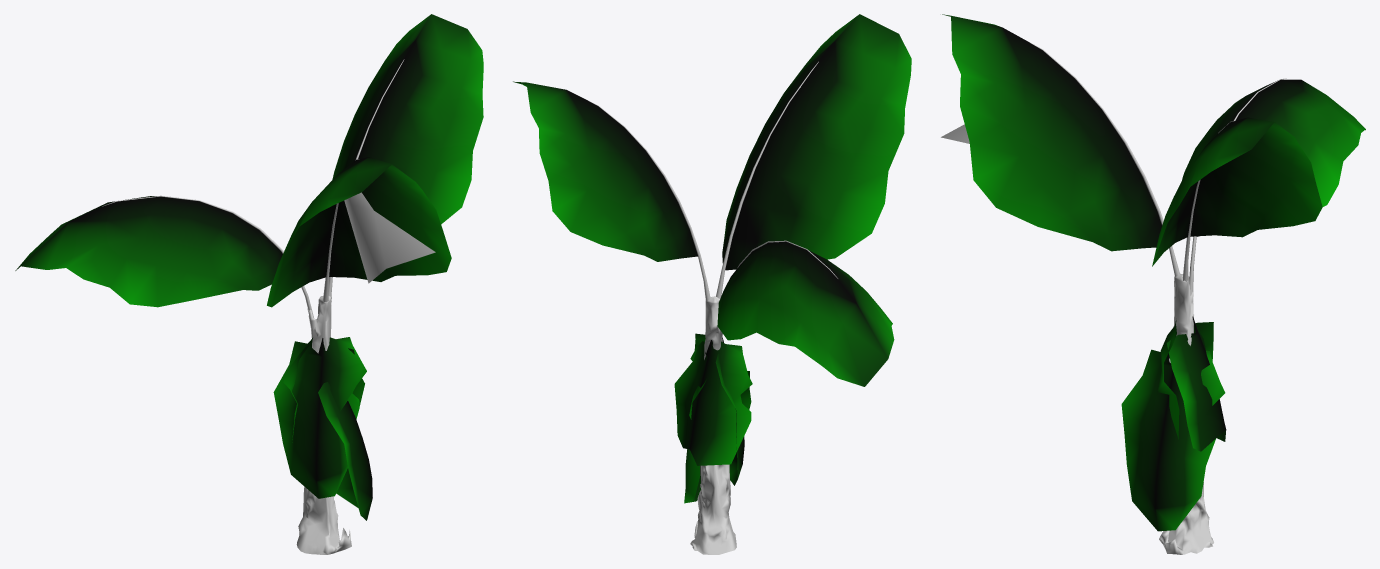
The model's file is CoconutPalmTree04_afsTREE_xlprl05_xlod00.fbx.
The picture shows the model from 3 angles, left to right: view 1: azimuth 30°, elevation 25°; view 2: azimuth 150°, elevation 25°; view 3: azimuth 270°, elevation 25°; orthographic projection. The views are drawn at different scales.
Parts seen in each view (by area): view 1: PalmBranch01_xw07_xt08_xlp00.004, PalmBranch01_xw10_xt08_xlp00.003, PalmBranch01_xw10_xt09_xlp00.004, DeadPalmBranch_xw01_xt02_xlp01_xp01, PalmBlade02_bent_right_xw03_xt05_xlp05.005, trunk_CoconutPalmTree04_xw03_xt03_xlp03, DeadPalmBranch_xw02_xt03_xlp02_xp03.006, DeadPalmBranch_xw01_xt02_xlp01; view 2: PalmBranch01_xw10_xt09_xlp00.004, PalmBranch01_xw10_xt08_xlp00.003, PalmBranch01_xw07_xt08_xlp00.004, DeadPalmBranch_xw01_xt02_xlp01, trunk_CoconutPalmTree04_xw03_xt03_xlp03, DeadPalmBranch_xw02_xt03_xlp02_xp03.006, DeadPalmBranch_xw01_xt02_xlp01_xp01, PalmBranch01_xw10_xt09_xlp08_xp08, PalmBranch01_xw10_xt08_xlp06_xp03; view 3: PalmBranch01_xw10_xt09_xlp00.004, PalmBranch01_xw10_xt08_xlp00.003, DeadPalmBranch_xw02_xt03_xlp02_xp03.006, PalmBranch01_xw07_xt08_xlp00.004, DeadPalmBranch_xw01_xt02_xlp01, trunk_CoconutPalmTree04_xw03_xt03_xlp03, DeadPalmBranch_xw01_xt02_xlp01_xp01, PalmBranch01_xw10_xt09_xlp08_xp08.
Boxes of the visible parts, x1,y1,x2,y2 form: PalmBranch01_xw07_xt08_xlp00.004: [15, 196, 282, 307]; PalmBranch01_xw10_xt08_xlp00.003: [332, 14, 483, 224]; PalmBranch01_xw10_xt09_xlp00.004: [267, 157, 451, 307]; DeadPalmBranch_xw01_xt02_xlp01_xp01: [273, 337, 366, 498]; PalmBlade02_bent_right_xw03_xt05_xlp05.005: [344, 192, 435, 283]; trunk_CoconutPalmTree04_xw03_xt03_xlp03: [296, 296, 351, 554]; DeadPalmBranch_xw02_xt03_xlp02_xp03.006: [318, 382, 372, 520]; DeadPalmBranch_xw01_xt02_xlp01: [283, 338, 364, 442]; PalmBranch01_xw10_xt09_xlp00.004: [722, 14, 911, 270]; PalmBranch01_xw10_xt08_xlp00.003: [513, 81, 697, 261]; PalmBranch01_xw07_xt08_xlp00.004: [717, 241, 894, 386]; DeadPalmBranch_xw01_xt02_xlp01: [674, 340, 752, 465]; trunk_CoconutPalmTree04_xw03_xt03_xlp03: [690, 296, 736, 554]; DeadPalmBranch_xw02_xt03_xlp02_xp03.006: [684, 371, 751, 503]; DeadPalmBranch_xw01_xt02_xlp01_xp01: [690, 333, 744, 485]; PalmBranch01_xw10_xt09_xlp08_xp08: [716, 61, 818, 298]; PalmBranch01_xw10_xt08_xlp06_xp03: [588, 100, 710, 301]; PalmBranch01_xw10_xt09_xlp00.004: [942, 14, 1161, 251]; PalmBranch01_xw10_xt08_xlp00.003: [1152, 117, 1322, 266]; DeadPalmBranch_xw02_xt03_xlp02_xp03.006: [1121, 349, 1225, 531]; PalmBranch01_xw07_xt08_xlp00.004: [1182, 79, 1365, 236]; DeadPalmBranch_xw01_xt02_xlp01: [1166, 316, 1226, 451]; trunk_CoconutPalmTree04_xw03_xt03_xlp03: [1159, 273, 1213, 554]; DeadPalmBranch_xw01_xt02_xlp01_xp01: [1157, 320, 1213, 439]; PalmBranch01_xw10_xt09_xlp08_xp08: [1030, 42, 1179, 276].
Size of what is drawn, in the model's own units: 7.18 by 5.89 by 7.76.
